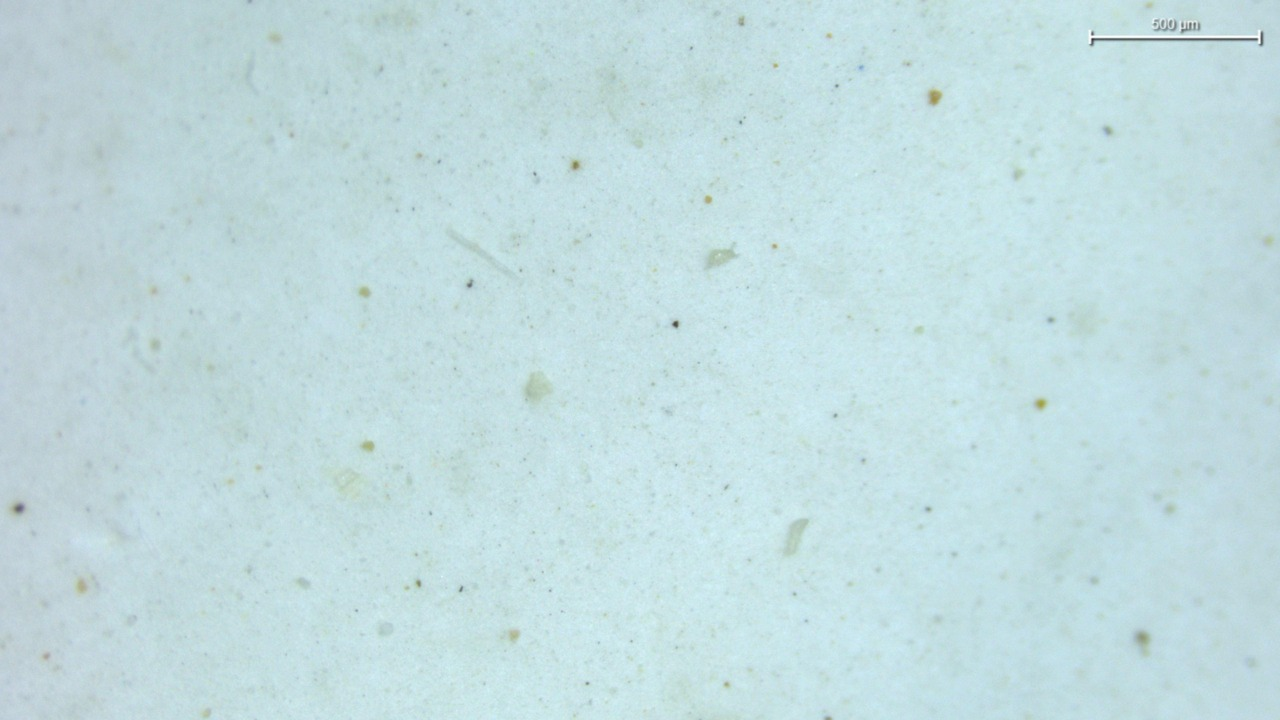microplastic_fragment: (704, 246, 738, 270)
